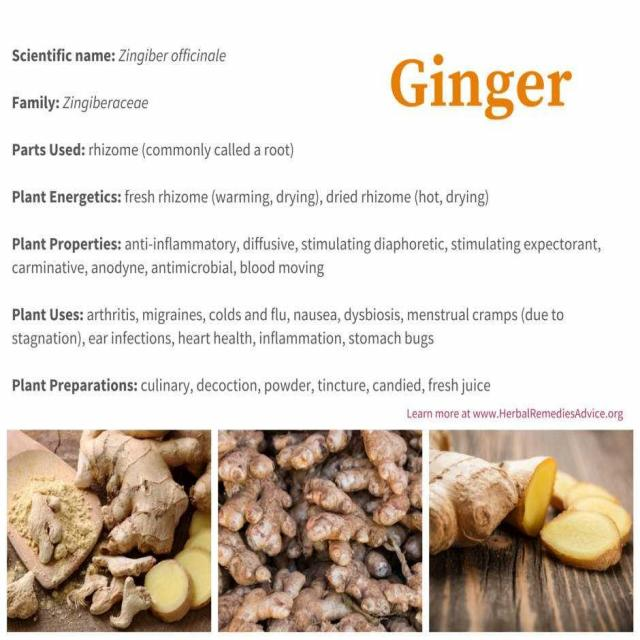ginger: (76, 429, 193, 552), (307, 455, 426, 570), (225, 554, 373, 640), (424, 442, 514, 560), (212, 432, 292, 550)
